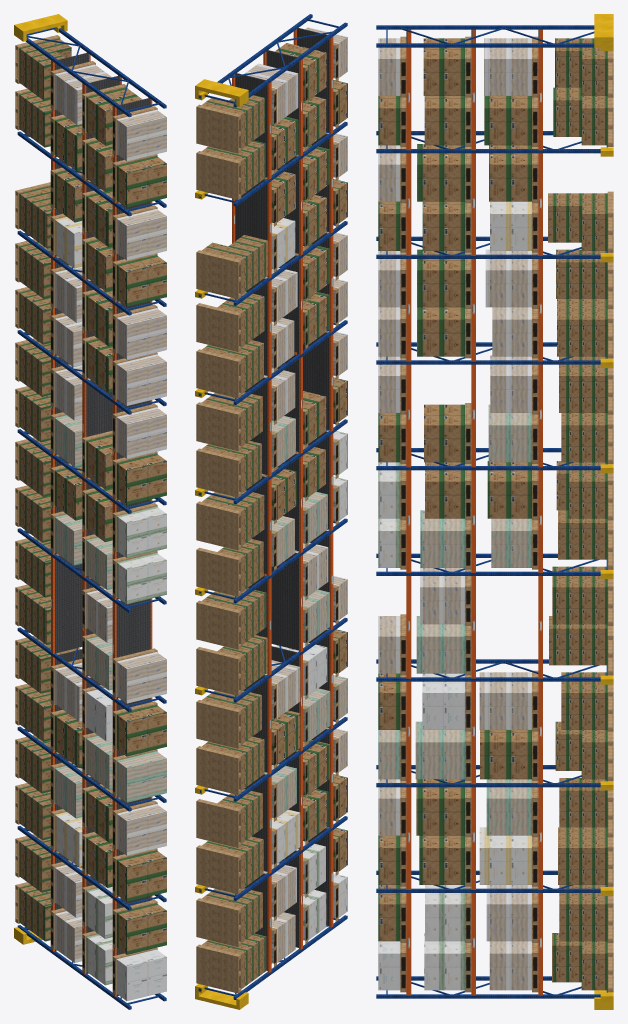
The model's file is racks_pw_n.gltf.
3 views of the same model, side by side, from view 1: azimuth 30°, elevation 25°; view 2: azimuth 150°, elevation 25°; view 3: azimuth 270°, elevation 25° (orthographic). The views are drawn at different scales.
Visible parts, largest first — view 1: racks_pw_n; view 2: racks_pw_n; view 3: racks_pw_n.
Boxes of the visible parts, x1,y1,x2,y2 form: racks_pw_n: (14,14,166,1009); racks_pw_n: (195,14,347,1009); racks_pw_n: (376,14,613,1009).
Size of the model in its own units: 1.27 by 24.86 by 5.5.
Materials: 15 (15 with a texture image).
